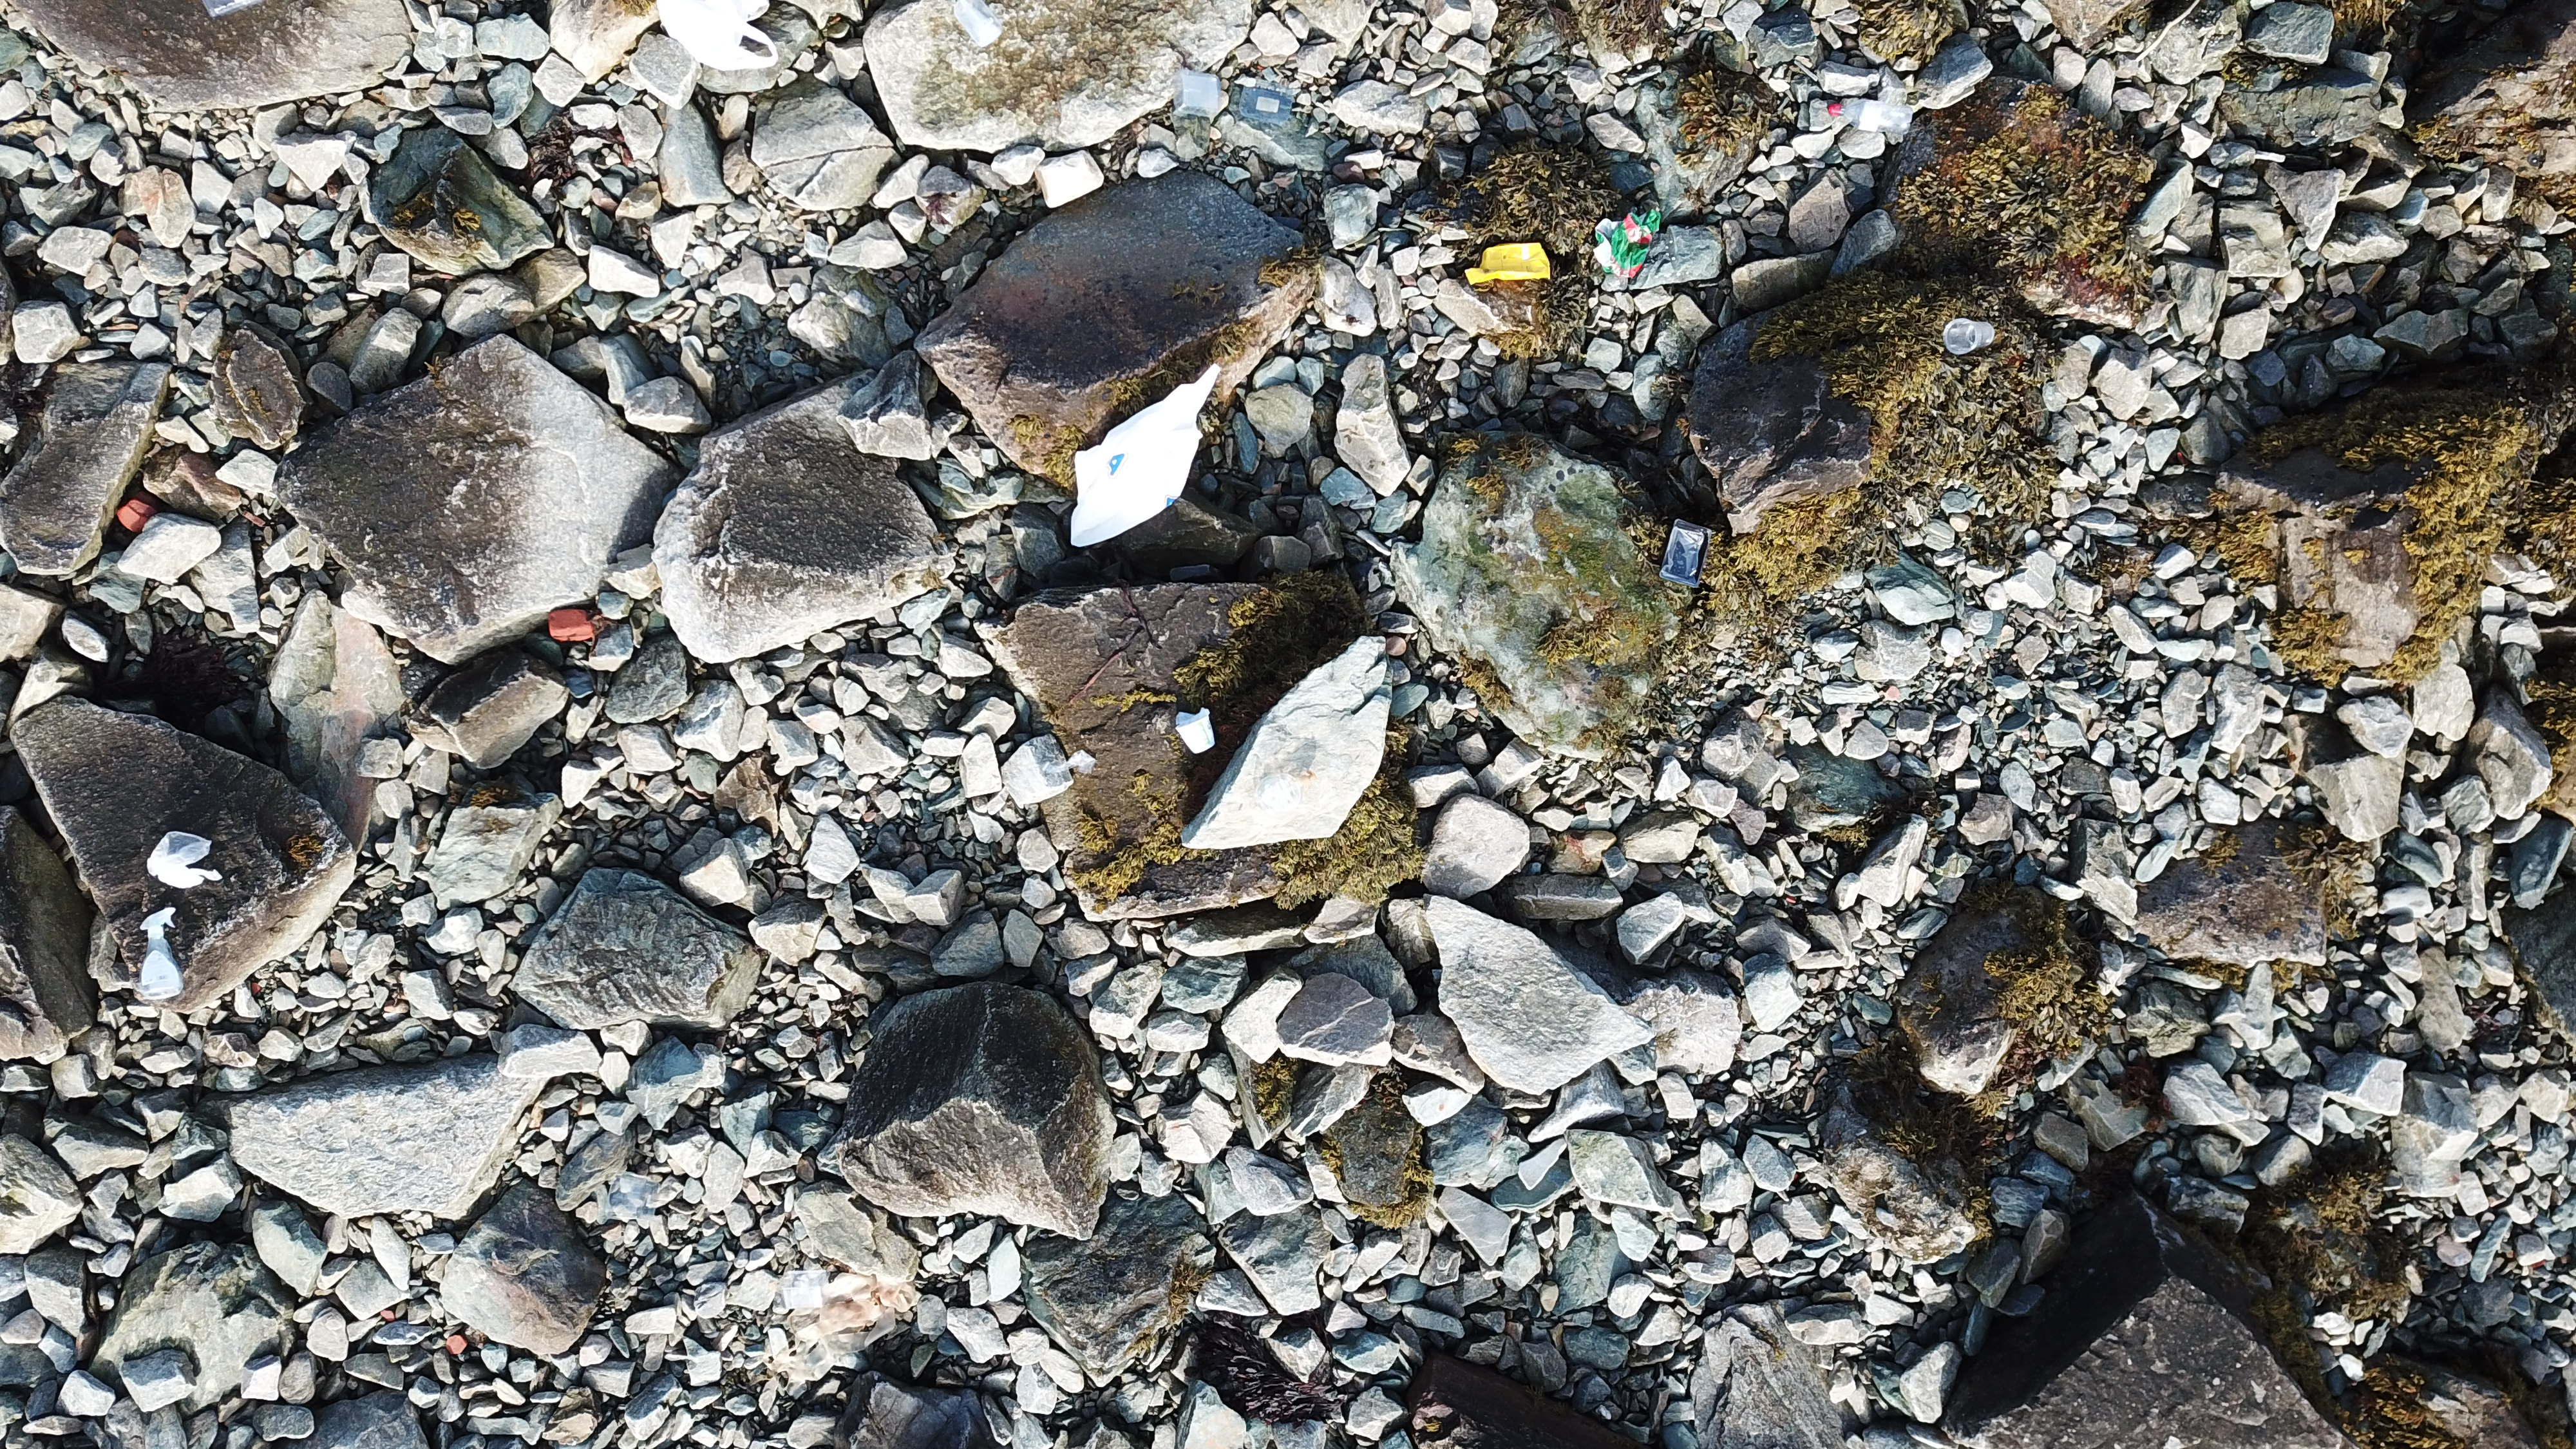Plastic: (1070, 363, 1221, 548), (656, 0, 778, 71), (1594, 209, 1660, 278), (138, 906, 184, 1001), (149, 832, 223, 890), (1465, 242, 1552, 287), (1660, 518, 1713, 587), (1829, 97, 1913, 138), (609, 1171, 660, 1223), (952, 0, 1003, 50), (1238, 80, 1293, 124), (1173, 69, 1221, 119), (780, 1269, 832, 1309), (1944, 318, 1994, 356), (1177, 709, 1215, 755), (1044, 750, 1097, 775), (202, 0, 264, 19)
